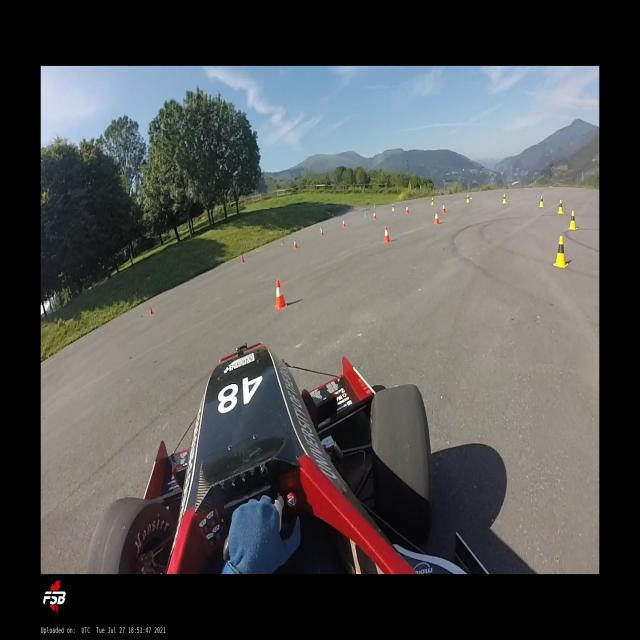orange_cone: (275, 280, 287, 311), (384, 226, 390, 244), (434, 211, 439, 224), (294, 239, 298, 249), (442, 203, 446, 213), (320, 227, 323, 236), (342, 220, 345, 228), (373, 212, 376, 220), (406, 206, 409, 214)
unknown_cone: (280, 238, 284, 246), (319, 223, 322, 232), (150, 306, 153, 314), (364, 210, 366, 218), (242, 255, 244, 262)
yellow_cone: (553, 236, 568, 268), (568, 210, 578, 230), (557, 199, 565, 214), (538, 195, 544, 207), (502, 193, 507, 204), (466, 194, 469, 204), (431, 197, 434, 206), (392, 204, 394, 212)
